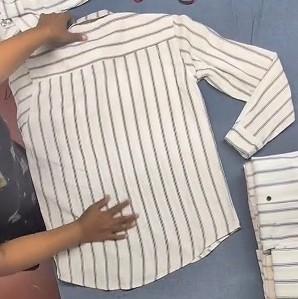SHIRT: (0, 63, 292, 261)
